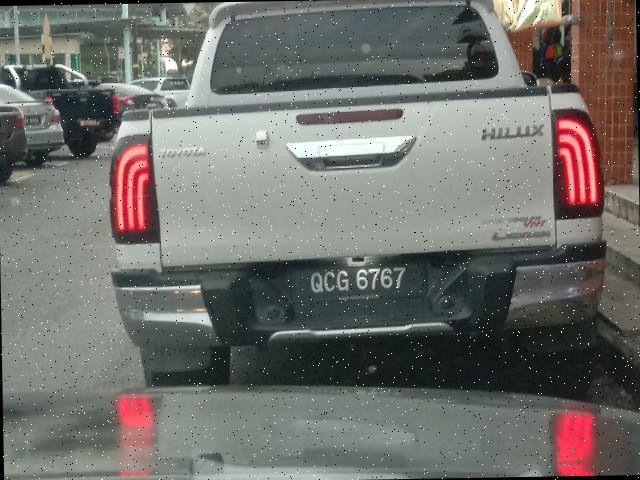License_Plate: (294, 264, 427, 304)
car: (104, 1, 631, 394)
